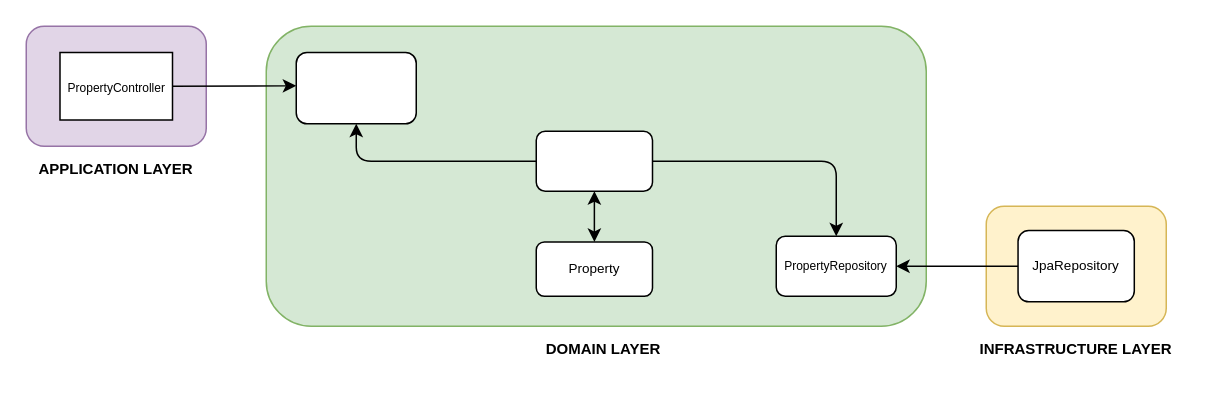
Image size: 1208x398. Some labels were removed from this diagram. Each missing label, with the centre of its shape:
PropertyService: [355,87]
PropertyServiceImpl: [593,160]
